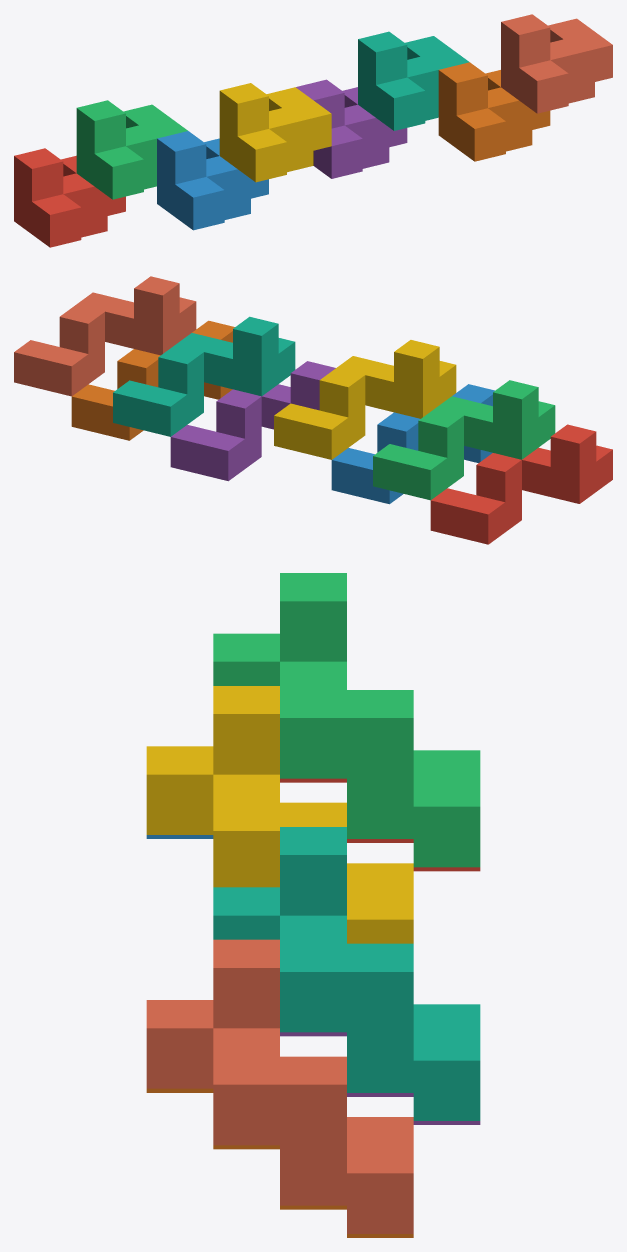
Rendered from tiling.obj.
3 renders of one model, top to bottom at view 1: azimuth 30°, elevation 25°; view 2: azimuth 150°, elevation 25°; view 3: azimuth 270°, elevation 25°, orthographic. The views are drawn at different scales.
Parts seen in each view (by area): view 1: copy_1_domain_4, copy_1_domain_8, copy_1_domain_3, copy_1_domain_7, copy_1_domain_6, copy_1_domain_1, copy_1_domain_2, copy_1_domain_5; view 2: copy_1_domain_3, copy_1_domain_7, copy_1_domain_4, copy_1_domain_8, copy_1_domain_1, copy_1_domain_5, copy_1_domain_6, copy_1_domain_2; view 3: copy_1_domain_8, copy_1_domain_7, copy_1_domain_3, copy_1_domain_4, copy_1_domain_6, copy_1_domain_1, copy_1_domain_5.
Part boxes in pixels (box(x1,y1,x2,y2)): copy_1_domain_4: box(219, 83, 331, 182); copy_1_domain_8: box(501, 14, 612, 113); copy_1_domain_3: box(76, 100, 187, 199); copy_1_domain_7: box(358, 31, 469, 130); copy_1_domain_6: box(438, 62, 550, 161); copy_1_domain_1: box(14, 148, 125, 247); copy_1_domain_2: box(157, 131, 268, 230); copy_1_domain_5: box(296, 79, 407, 178); copy_1_domain_3: box(373, 380, 555, 500); copy_1_domain_7: box(113, 316, 295, 436); copy_1_domain_4: box(274, 340, 456, 459); copy_1_domain_8: box(14, 276, 196, 396); copy_1_domain_1: box(430, 424, 612, 544); copy_1_domain_5: box(170, 361, 335, 481); copy_1_domain_6: box(71, 320, 234, 440); copy_1_domain_2: box(331, 384, 494, 504); copy_1_domain_8: box(146, 939, 413, 1233); copy_1_domain_7: box(213, 827, 480, 1120); copy_1_domain_3: box(213, 573, 480, 867); copy_1_domain_4: box(146, 686, 413, 943); copy_1_domain_6: box(146, 1088, 413, 1237); copy_1_domain_1: box(280, 778, 480, 871); copy_1_domain_5: box(280, 1032, 480, 1124).
Size of the model in its own units: 19 by 4 by 5.
